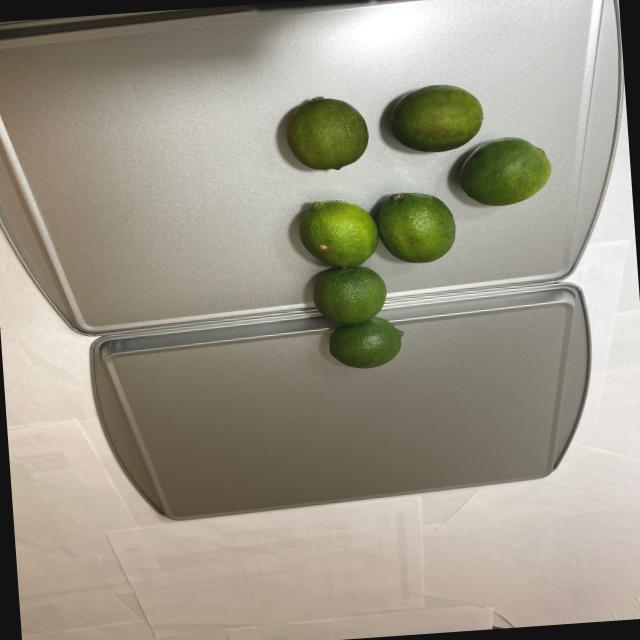lemon: (282, 67, 567, 376)
